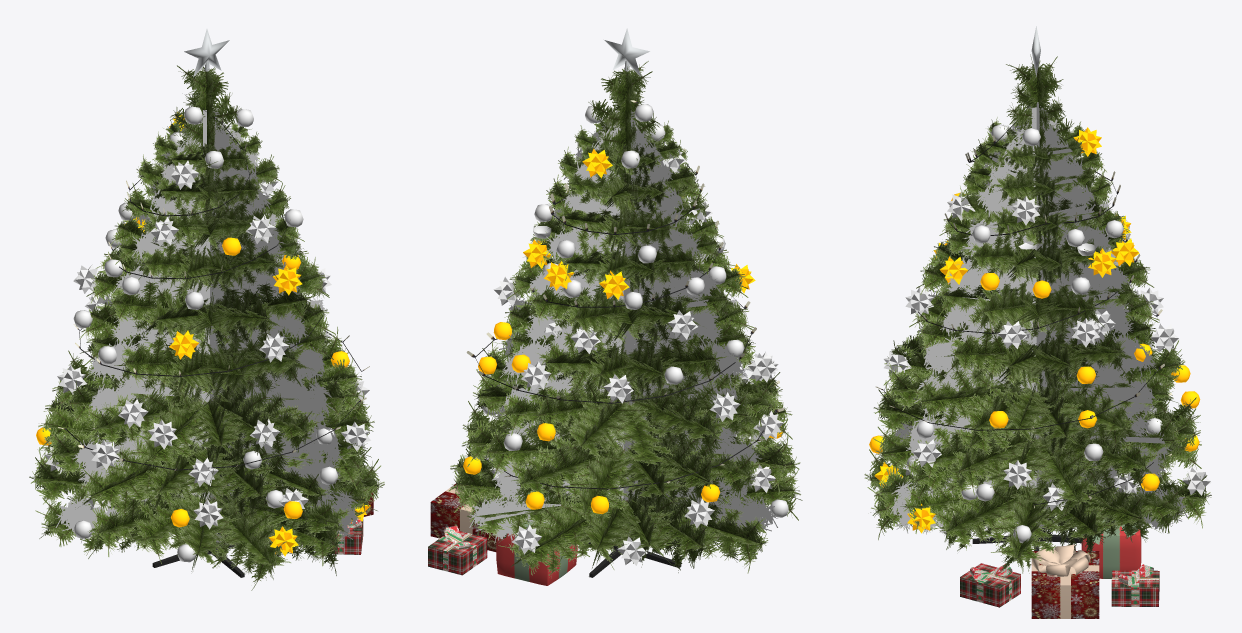
Rendered from elka_big.fbx.
3 renders of one model, left to right at view 1: azimuth 30°, elevation 25°; view 2: azimuth 150°, elevation 25°; view 3: azimuth 270°, elevation 25°, orthographic.
Parts seen in each view (by area): view 1: elka_big.001, present3.005; view 2: elka_big.001, present3.004, Shape008.002, present1.003; view 3: elka_big.001, present1.003, present3.005, Shape008.002, present3.004.
Boxes of the visible parts, left/top/right/bottom form: elka_big.001: left=29, top=29, right=384, bottom=590; present3.005: left=327, top=518, right=363, bottom=554; elka_big.001: left=448, top=28, right=802, bottom=578; present3.004: left=428, top=525, right=487, bottom=575; Shape008.002: left=496, top=522, right=577, bottom=585; present1.003: left=430, top=483, right=496, bottom=551; elka_big.001: left=864, top=26, right=1211, bottom=575; present1.003: left=1031, top=544, right=1099, bottom=618; present3.005: left=960, top=563, right=1020, bottom=607; Shape008.002: left=1081, top=517, right=1141, bottom=578; present3.004: left=1111, top=564, right=1159, bottom=606.
Bounding box in the file's own units: 321 × 482 × 321.
